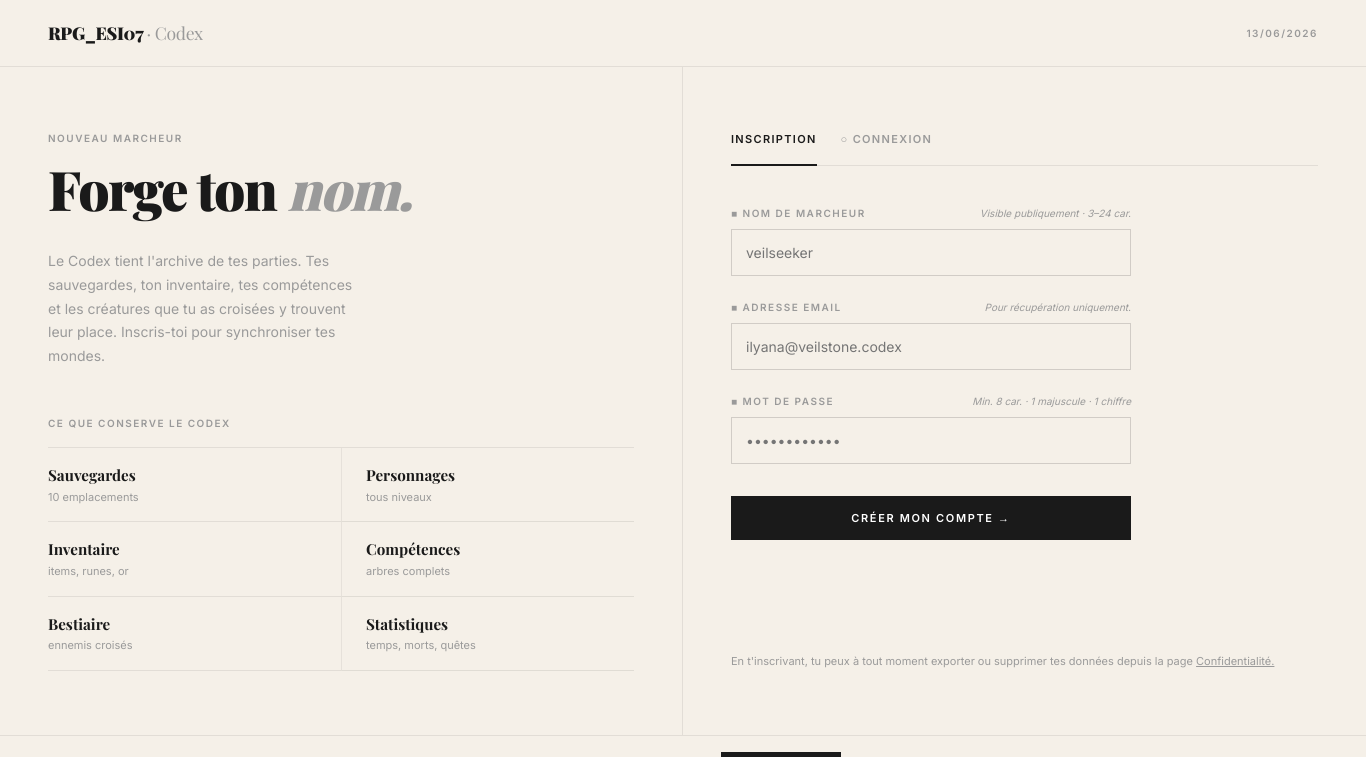
Test case: RegisterView › affiche un message de succès après inscription
Step 1. Click the button "Créer mon compte →" → (931,518), box [731, 496, 1131, 540]
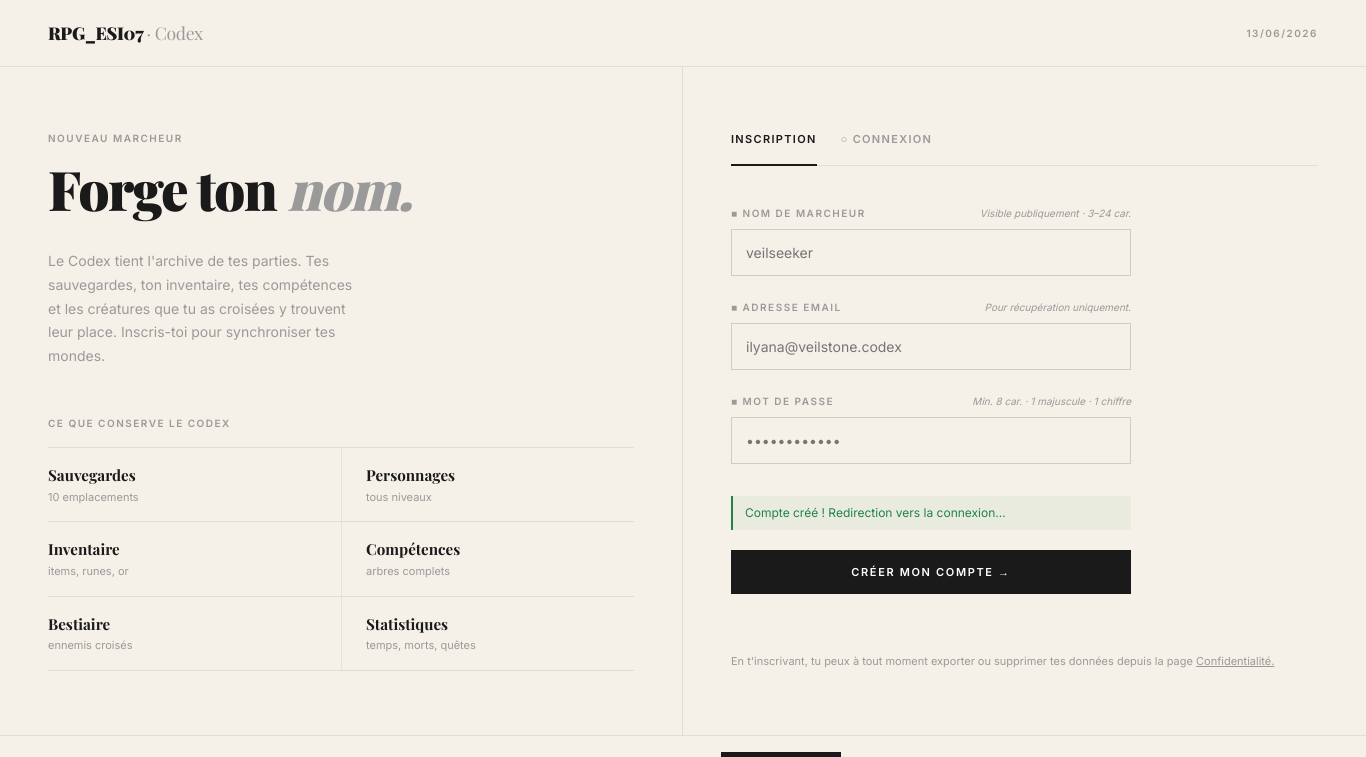
Check: the text "Compte créé" is shown, box [745, 505, 1006, 520]
